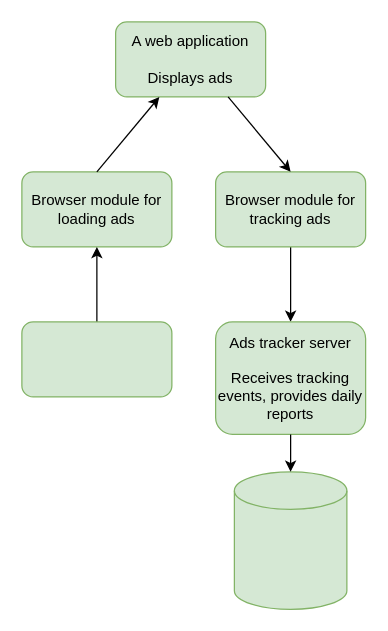
The diagram is 388 pixels wide and 631 high, and some of its shapes have lost their labels. Here are the shapes that lost their labels. From the top down, the centre of each, then its label:
At point 96,359: "Ads server Supplies ads".
At point 290,540: "Ads tracker database Stores tracking events".
